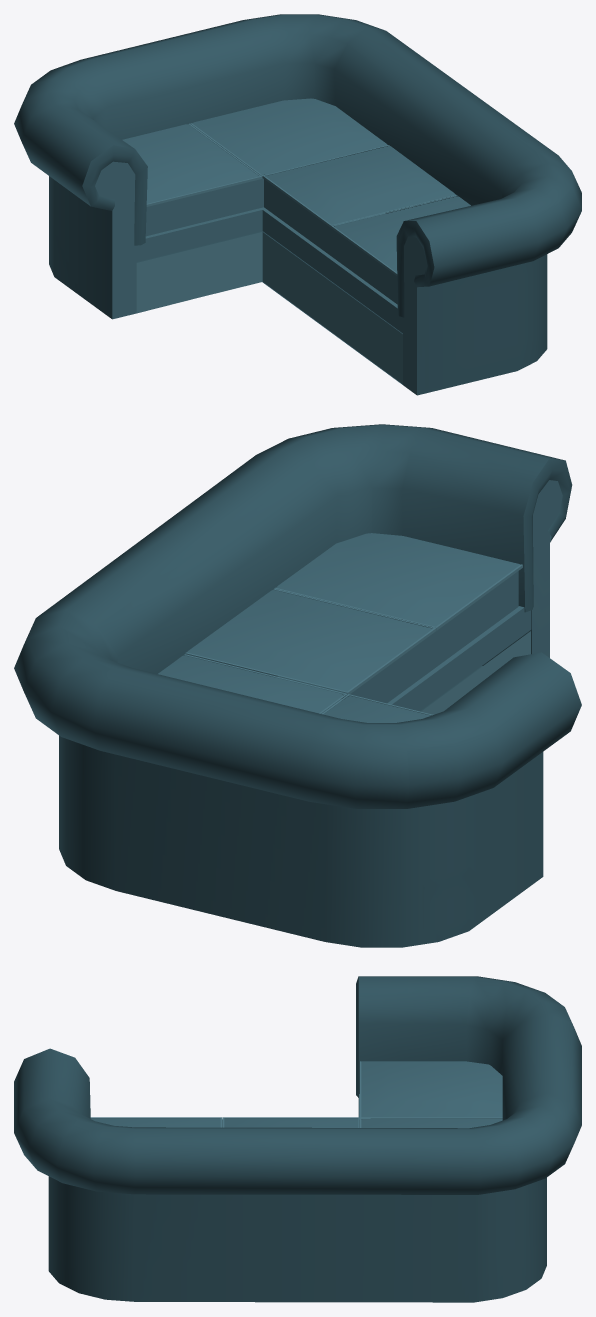
The model's file is sofa_021.glb.
3 views of the same model, one above another, from view 1: azimuth 30°, elevation 25°; view 2: azimuth 150°, elevation 25°; view 3: azimuth 270°, elevation 25° (orthographic). The views are drawn at different scales.
Visible parts, largest first — view 1: sofa_021; view 2: sofa_021; view 3: sofa_021.
Part boxes in pixels (x1=…): sofa_021: x1=14, y1=14, x2=581, y2=395; sofa_021: x1=14, y1=424, x2=581, y2=947; sofa_021: x1=14, y1=976, x2=581, y2=1302.
Size of the model in its own units: 1.89 by 0.8431 by 2.48.
Materials: 1 (1 with a texture image).
